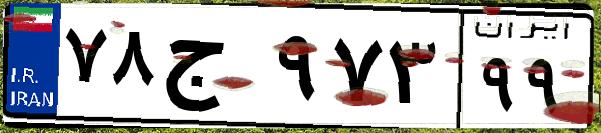3: (385, 28, 445, 110)
7: (330, 28, 385, 110), (57, 26, 110, 100)
8: (110, 28, 158, 98)
9: (270, 28, 330, 110), (475, 38, 525, 113), (525, 38, 570, 115)
ج: (158, 20, 270, 120)
